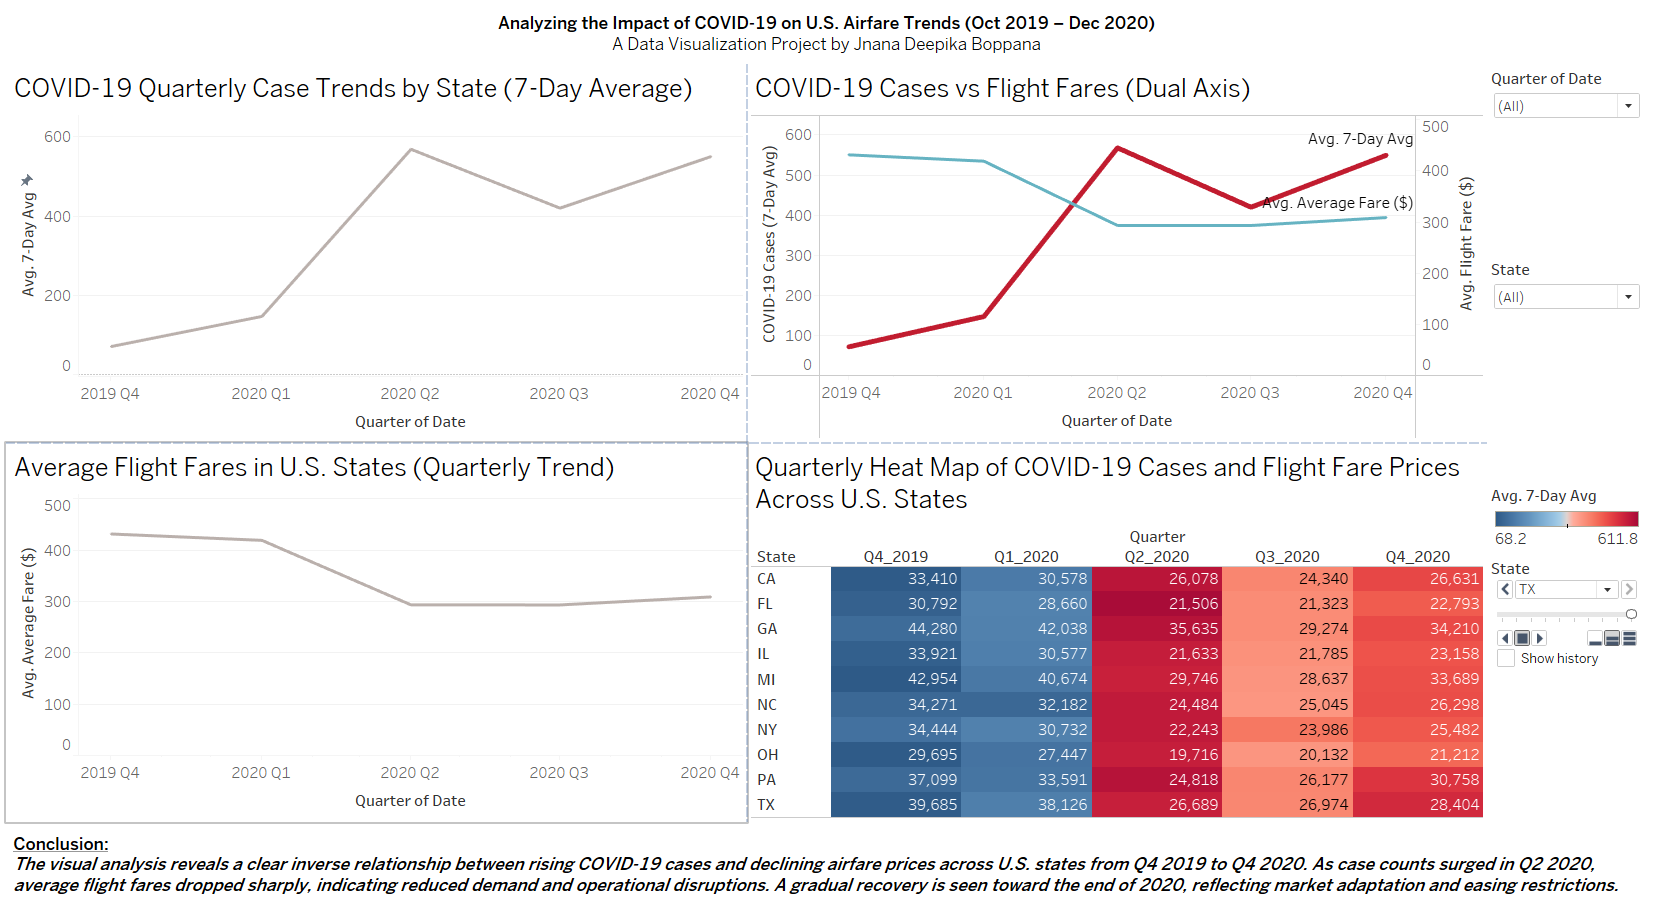

The dashboard page shown, as its layout file describes it:
{"tool":"tableau","page":{"name":"Dashboard 1","canvas":[1000,1000],"units":"permille","ordinal":0},"visuals":[{"type":"text","box":[4.8,8.7,990.3,65.7]},{"type":"worksheet","title":"COVID-19 Quarterly Case Trends","mark":"Line","rows":["7-Day Avg"],"cols":["Date"],"box":[4.8,74.4,446.9,411.3]},{"type":"worksheet","title":"COVID-19 Cases vs Flight Fares","mark":"Automatic","rows":["7-Day Avg","Average Fare ($)"],"cols":["Date"],"box":[451.7,74.4,446.9,411.3]},{"type":"filter","title":"Average Flight Fares in U.S. States","param":"[federated.06hnyd11e3oels14inias13boalp].[qr:Date:ok]","box":[898.6,74.4,96.6,207.4]},{"type":"filter","title":"Average Flight Fares in U.S. States","param":"[federated.06hnyd11e3oels14inias13boalp].[none:State:nk]","box":[898.6,281.7,96.6,245.4]},{"type":"worksheet","title":"Average Flight Fares in U.S. States","mark":"Line","rows":["Average Fare ($)"],"cols":["Date"],"box":[4.8,485.7,446.9,411.4]},{"type":"worksheet","title":"Quarterly Heat Map of COVID-19 Cases and Flight Fare Prices Across U.S. States","mark":"Square","rows":["State"],"cols":["Quarter"],"box":[451.7,485.7,446.9,411.4]},{"type":"legend","title":"Quarterly Heat Map of COVID-19 Cases and Flight Fare Prices Across U.S. States","param":"[federated.06hnyd11e3oels14inias13boalp].[avg:7-Day Avg:qk]","box":[898.6,527.1,96.6,79.3]},{"type":"currpage","title":"COVID-19 Quarterly Case Trends","box":[898.6,606.4,96.6,129.2]},{"type":"text","box":[4.8,897.1,990.3,94.2]}]}

Visuals, with their boxes on the dashboard's canvas, which has no fixed pixel size, in thousandths of its width and height (x1, y1, x2, y2). These are canvas units, not pixel positions in the 1655x912 screenshot, which may show the page scaled, cropped or inside an application window:
text: detection(5, 9, 995, 74)
"COVID-19 Quarterly Case Trends" worksheet (Line marks): detection(5, 74, 452, 486)
"COVID-19 Cases vs Flight Fares" worksheet: detection(452, 74, 899, 486)
"Average Flight Fares in U.S. States" filter: detection(899, 74, 995, 282)
"Average Flight Fares in U.S. States" filter: detection(899, 282, 995, 527)
"Average Flight Fares in U.S. States" worksheet (Line marks): detection(5, 486, 452, 897)
"Quarterly Heat Map of COVID-19 Cases and Flight Fare Prices Across U.S. States" worksheet (Square marks): detection(452, 486, 899, 897)
"Quarterly Heat Map of COVID-19 Cases and Flight Fare Prices Across U.S. States" legend: detection(899, 527, 995, 606)
"COVID-19 Quarterly Case Trends" currpage: detection(899, 606, 995, 736)
text: detection(5, 897, 995, 991)
